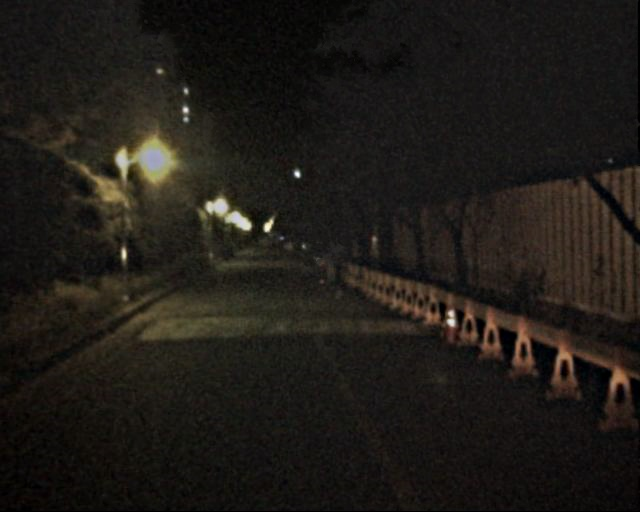person: (323, 242, 339, 282), (333, 241, 349, 281), (299, 240, 315, 278), (290, 241, 301, 269)
